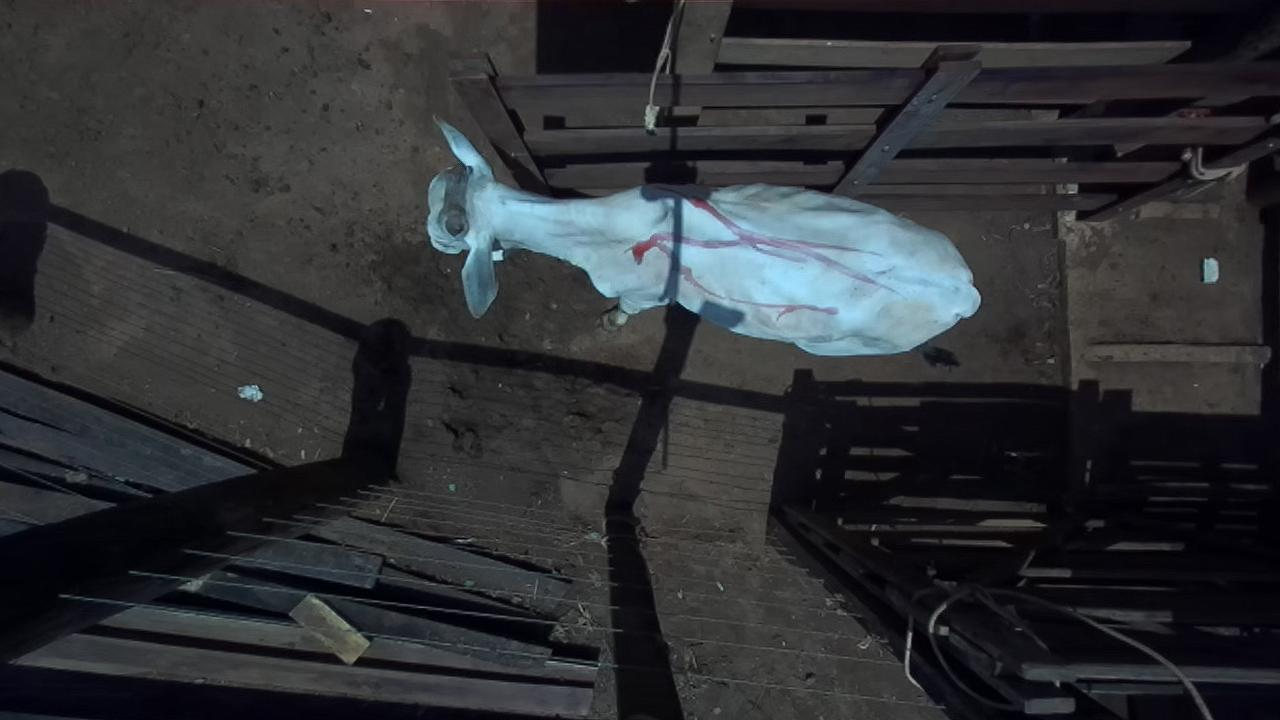cattle: (424, 113, 982, 358)
